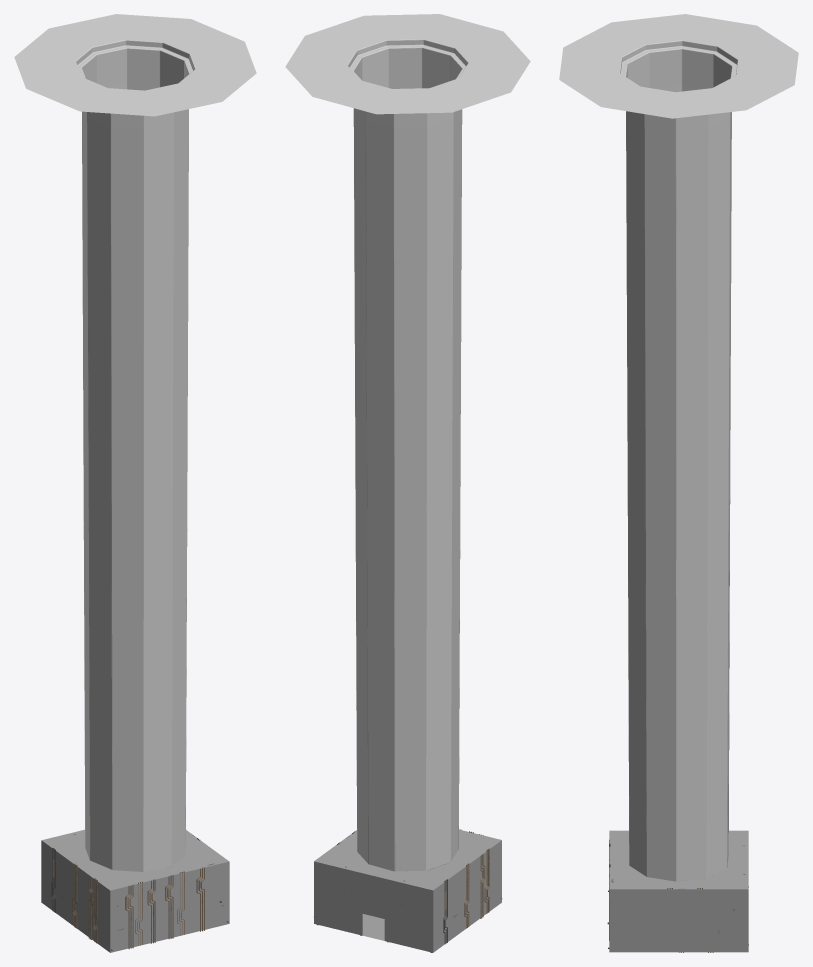
The model's file is BargeStartCombined.fbx.
The picture shows the model from 3 angles, left to right: view 1: azimuth 30°, elevation 25°; view 2: azimuth 150°, elevation 25°; view 3: azimuth 270°, elevation 25°; orthographic projection.
Parts seen in each view (by area): view 1: Hub_Floor, BargeStart_Wall, BargeStart_Ceiling; view 2: Hub_Floor, BargeStart_Wall, BargeStart_Ceiling; view 3: Hub_Floor, BargeStart_Wall, BargeStart_Ceiling.
Part boxes in pixels (x1=…): Hub_Floor: x1=14, y1=14, x2=256, y2=871; BargeStart_Wall: x1=41, y1=840, x2=229, y2=952; BargeStart_Ceiling: x1=42, y1=829, x2=228, y2=890; Hub_Floor: x1=285, y1=14, x2=530, y2=871; BargeStart_Wall: x1=314, y1=840, x2=501, y2=952; BargeStart_Ceiling: x1=314, y1=829, x2=501, y2=890; Hub_Floor: x1=559, y1=14, x2=798, y2=881; BargeStart_Wall: x1=609, y1=854, x2=748, y2=952; BargeStart_Ceiling: x1=609, y1=830, x2=748, y2=889.
Size of the model in its own units: 3563 by 13610 by 3446.
